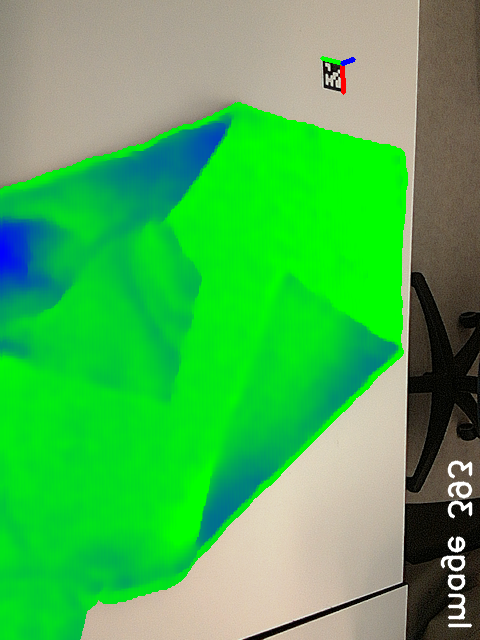V: (254, 253, 325, 321), (135, 360, 190, 408)
